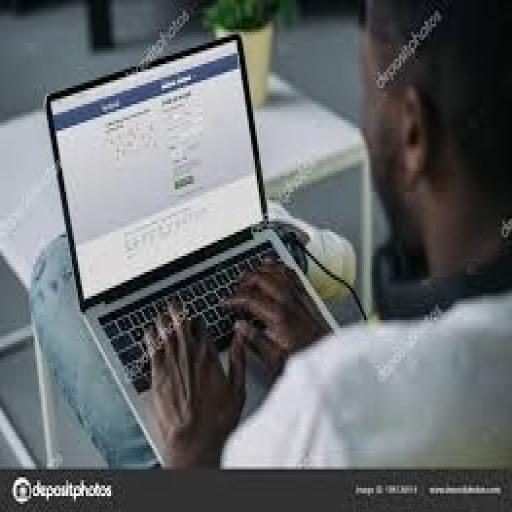using_laptop: (41, 30, 343, 462)
